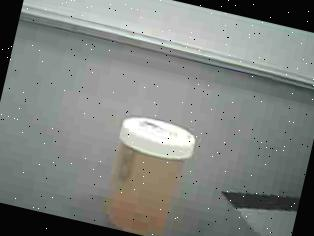Bottle B: (85, 101, 210, 236)
